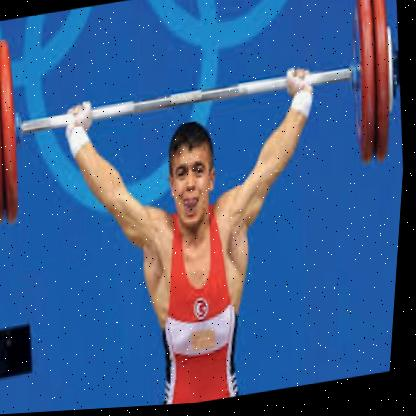person: (157, 115, 227, 237)
